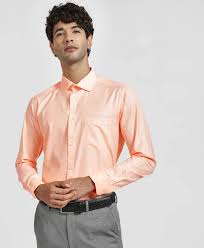F_belt: (36, 191, 126, 218)
F_shirt: (15, 72, 155, 202)
